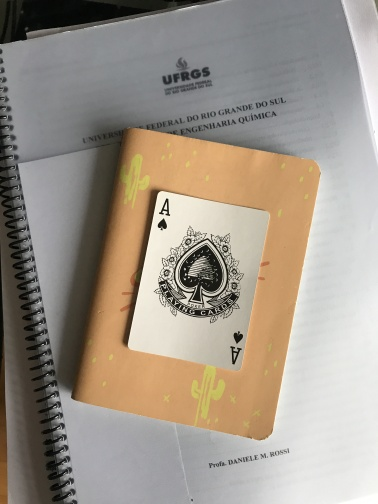ace: (125, 189, 272, 373)
